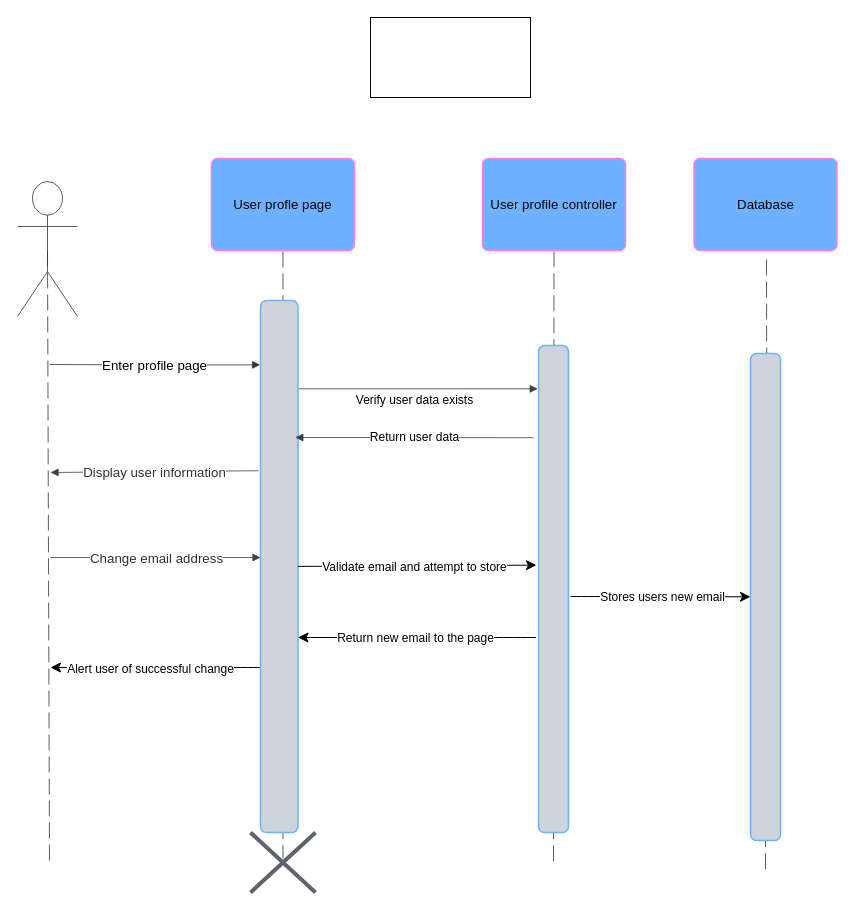
This 855x912 diagram has some shape labels left out. Each missing label, with the centre of its shape:
Library user: (x=47, y=248)
User email change: (x=450, y=57)
